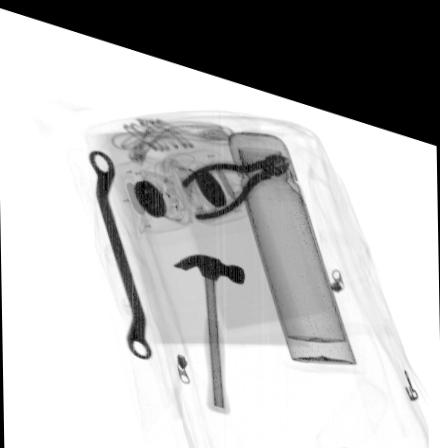Hammer: (171, 239, 246, 402)
Pliers: (179, 133, 295, 210)
Wrench: (85, 144, 151, 353)
